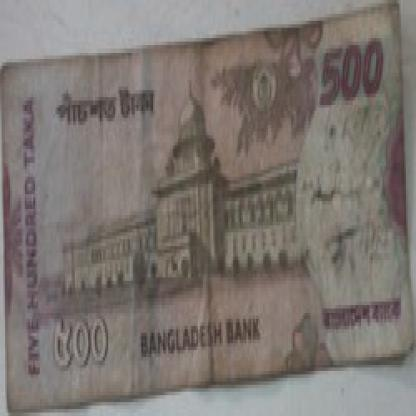500 taka: (35, 62, 175, 156), (45, 309, 133, 374)
currency: (3, 11, 414, 388)
